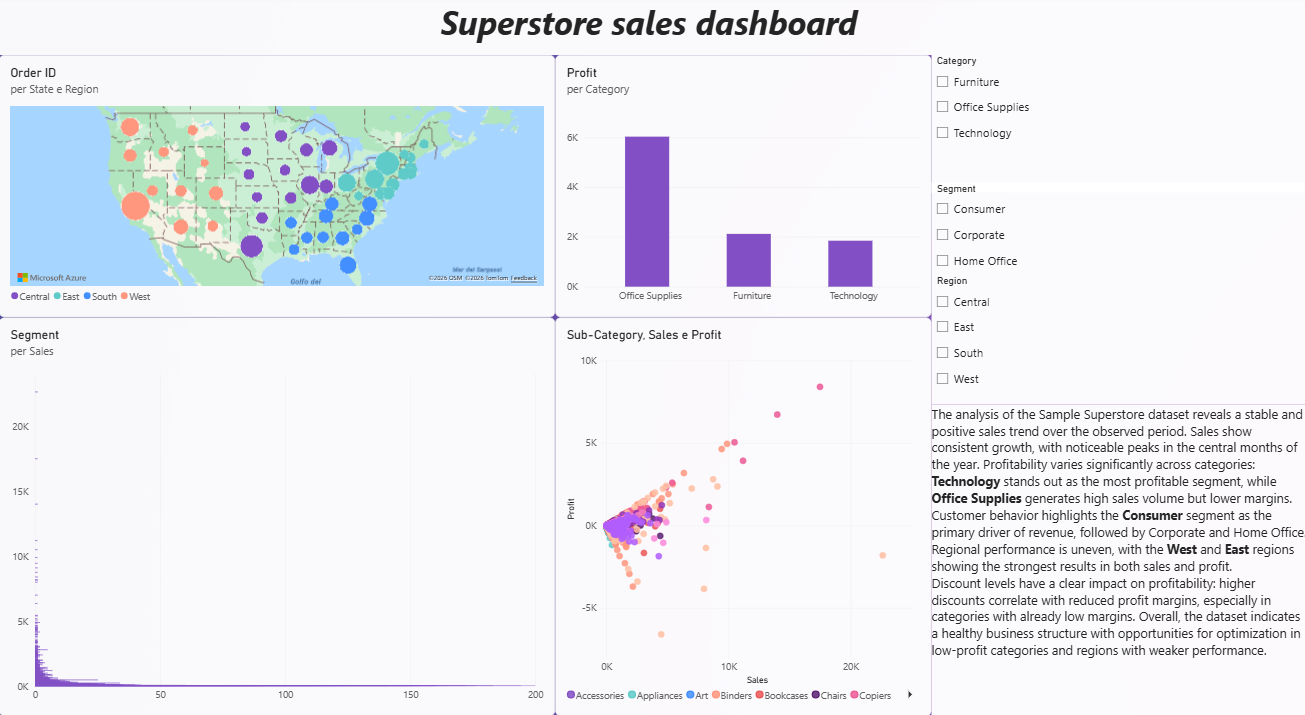

The dashboard page shown, as its layout file describes it:
{"tool":"powerbi","page":{"name":"Pagina 2","canvas":[1920,1080],"ordinal":1},"visuals":[{"type":"azureMap","fields":{"Category":["Sample - Superstore.State"],"Series":["Sample - Superstore.Region"],"Size":["CountNonNull(Sample - Superstore.Order ID)"]},"box":[0,80.7,816.2,385.2],"z":0},{"type":"barChart","fields":{"Category":["Sample - Superstore.Sales"],"Y":["CountNonNull(Sample - Superstore.Segment)"]},"box":[0,465.9,816.2,585.1],"z":1},{"type":"columnChart","fields":{"Category":["Sample - Superstore.Category"],"Y":["CountNonNull(Sample - Superstore.Profit)"]},"box":[816.2,80.7,552.1,385.2],"z":2},{"type":"scatterChart","fields":{"Series":["Sample - Superstore.Sub-Category"],"X":["Sample - Superstore.Sales"],"Y":["Sample - Superstore.Profit"]},"box":[816.2,465.9,552.1,585.1],"z":3},{"type":"textbox","box":[1368.3,594.3,552.1,456.7],"z":5},{"type":"slicer","fields":{"Values":["Sample - Superstore.Category"]},"box":[1368.3,80.7,552.1,201.8],"z":6},{"type":"slicer","fields":{"Values":["Sample - Superstore.Segment"]},"box":[1368.3,267.8,552.1,135.7],"z":7},{"type":"slicer","fields":{"Values":["Sample - Superstore.Region"]},"box":[1368.3,403.5,552.1,190.8],"z":8},{"type":"textbox","box":[0,0,1920.5,80.7],"z":9}]}

Visuals, with their boxes in screenshot pixels (x1, y1, x2, y2), scaled from the page's 1920x1080 canvas onto the 1305x715 screenshot:
azureMap - Sample - Superstore.State x Sample - Superstore.Region: bbox=(0, 53, 555, 308)
barChart - Sample - Superstore.Sales x CountNonNull(Sample - Superstore.Segment): bbox=(0, 308, 555, 696)
columnChart - Sample - Superstore.Category x CountNonNull(Sample - Superstore.Profit): bbox=(555, 53, 930, 308)
scatterChart - Sample - Superstore.Sub-Category x Sample - Superstore.Sales: bbox=(555, 308, 930, 696)
textbox: bbox=(930, 393, 1304, 696)
slicer - Sample - Superstore.Category: bbox=(930, 53, 1304, 187)
slicer - Sample - Superstore.Segment: bbox=(930, 177, 1304, 267)
slicer - Sample - Superstore.Region: bbox=(930, 267, 1304, 393)
textbox: bbox=(0, 0, 1304, 53)
